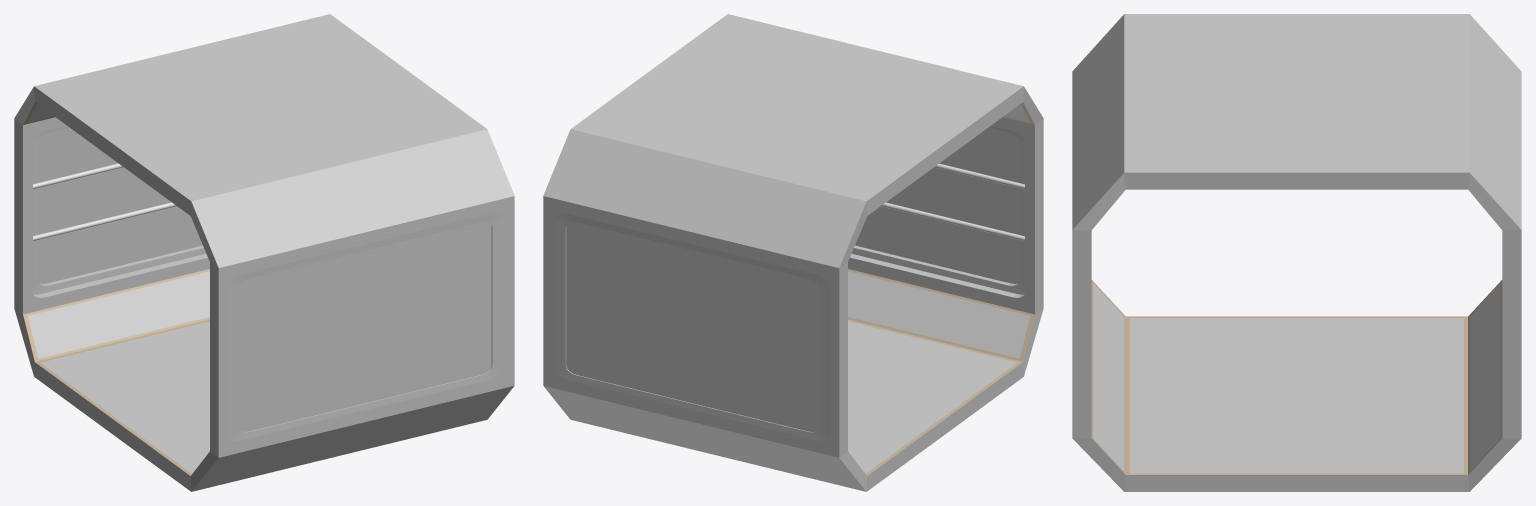
The model's file is hallwaytest1.fbx.
The picture shows the model from 3 angles, left to right: view 1: azimuth 30°, elevation 25°; view 2: azimuth 150°, elevation 25°; view 3: azimuth 270°, elevation 25°; orthographic projection. The views are drawn at different scales.
Visible parts, largest first — view 1: Cube, Cube.009, Cube.008, Cylinder.003; view 2: Cube, Cube.008, Cube.009, Cylinder; view 3: Cube.
Boxes of the visible parts, x1,y1,x2,y2 form: Cube: (14,14,514,491); Cube.009: (239,221,491,431); Cube.008: (38,127,202,283); Cylinder.003: (33,202,176,240); Cube: (543,14,1043,491); Cube.008: (566,221,818,431); Cube.009: (855,127,1019,283); Cylinder: (881,202,1024,241); Cube: (1072,14,1521,491).
Bounding box in the file's own units: 10.99 × 10.19 × 12.99.
